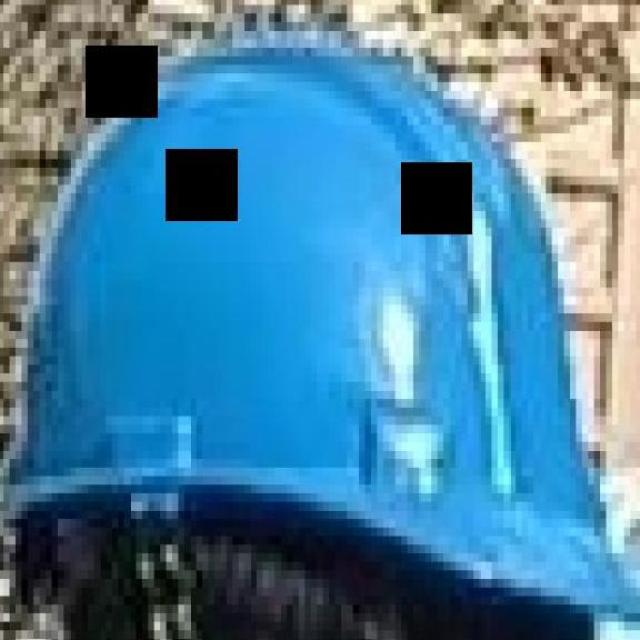blue helmet: (7, 28, 640, 633)
